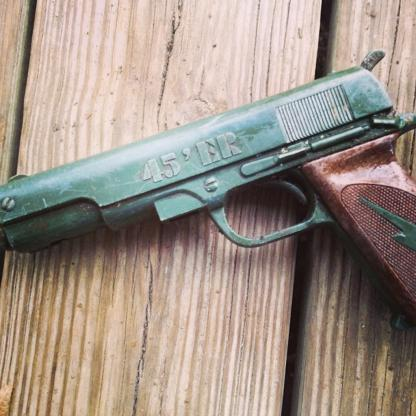Handgun: (0, 49, 416, 323)
